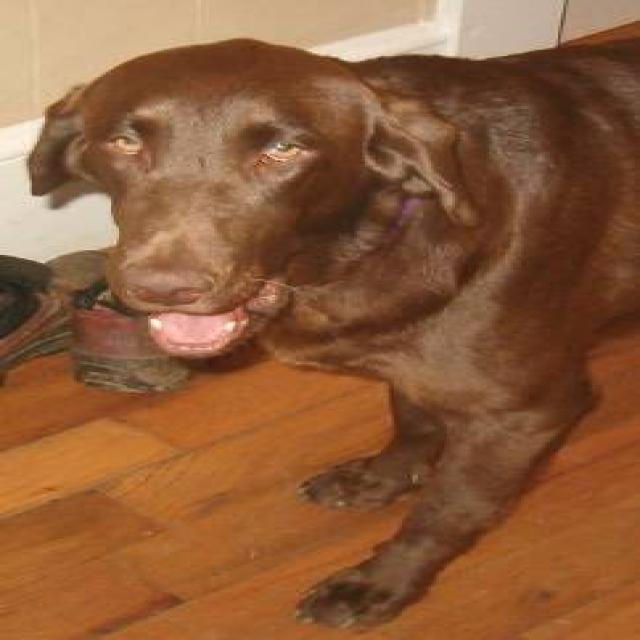dog: (24, 21, 637, 630)
